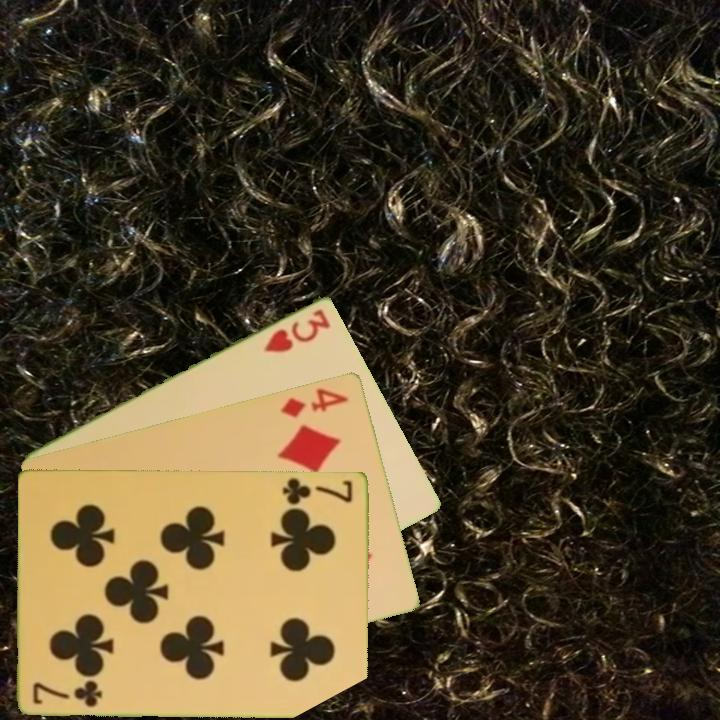3h: (260, 305, 334, 355)
4d: (277, 384, 352, 421)
7c: (279, 474, 355, 507), (30, 678, 106, 710)
